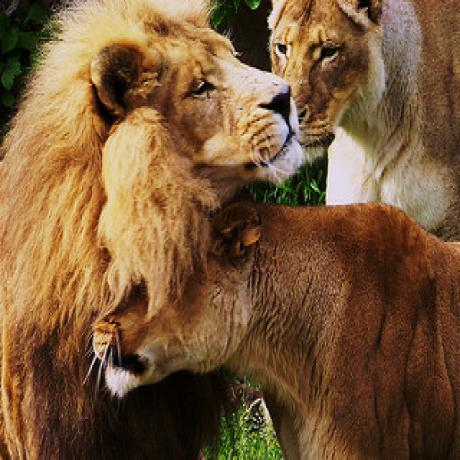Lion: (0, 0, 300, 460), (91, 207, 460, 460), (267, 0, 459, 238)
